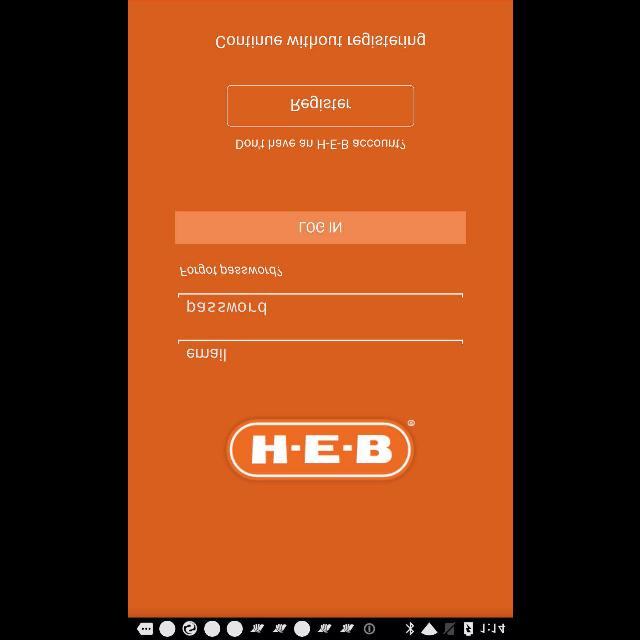image: (226, 419, 414, 481)
input: (177, 293, 463, 315), (178, 340, 462, 362)
text: (215, 32, 425, 48), (235, 138, 405, 150), (187, 298, 266, 316), (178, 264, 282, 276), (187, 348, 226, 362)
textbutton: (174, 212, 466, 244), (226, 85, 414, 127)
uppertaskbar: (128, 617, 512, 639)
